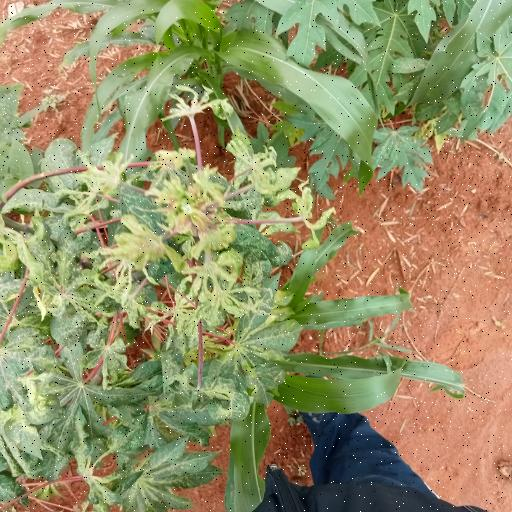Cassava_Mosaic: (0, 339, 150, 451), (222, 308, 308, 402), (126, 427, 223, 508)
